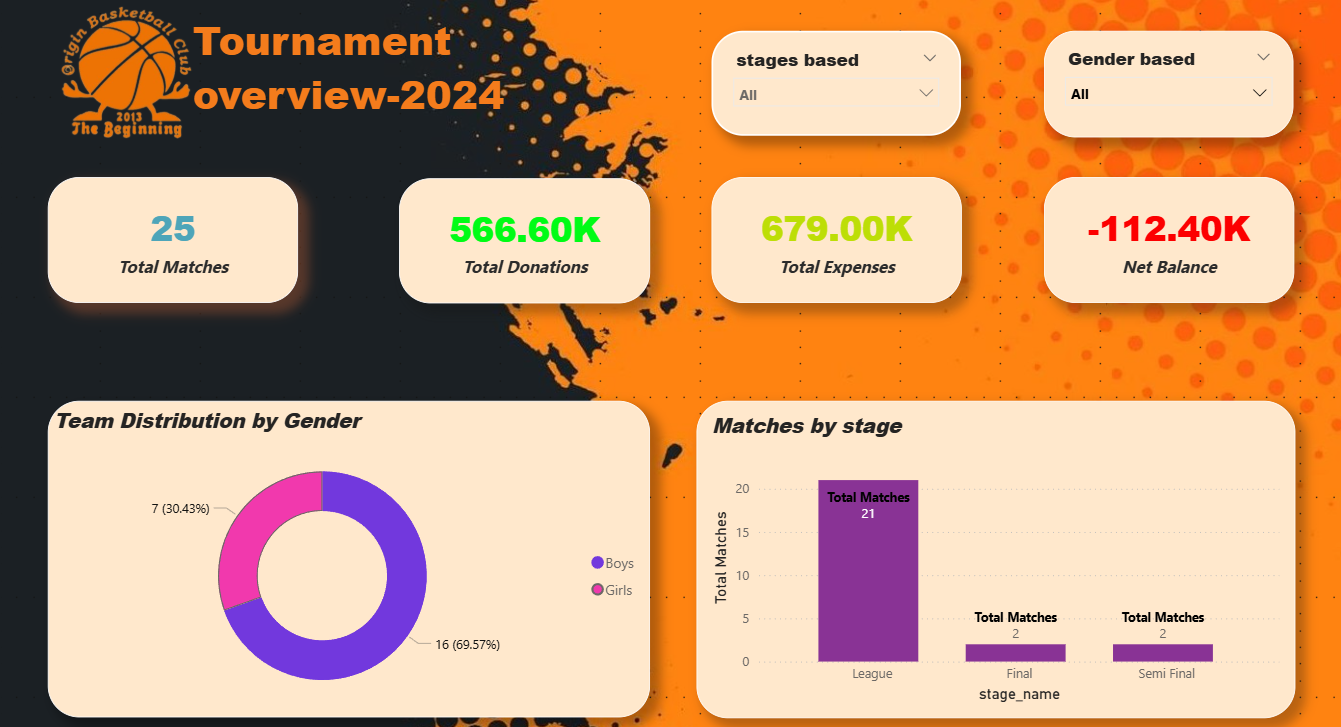

This screenshot's page, from the dashboard's own definition file:
{"tool":"powerbi","page":{"name":"Tournament overview","canvas":[1280,720],"ordinal":0},"visuals":[{"type":"slicer","fields":{"Values":["origin_basketball_db gender_categories.gender_name"]},"box":[995.7,31.9,237.7,101.4],"z":0},{"type":"donutChart","title":"Team Distribution by Gender","fields":{"Category":["origin_basketball_db gender_categories.gender_name"],"Y":["CountNonNull(origin_basketball_db teams.team_name)"]},"box":[46.4,384.1,573.9,301.4],"z":1000},{"type":"slicer","fields":{"Values":["origin_basketball_db match_stages.stage_name"]},"box":[678.2,32,237.5,99.7],"z":2000},{"type":"clusteredColumnChart","title":"Matches by stage ","fields":{"Category":["origin_basketball_db match_stages.stage_name"],"Y":["_Measures.Total Matches"]},"box":[664,384,570,302],"z":3000},{"type":"card","fields":{"Values":["_Measures.Total Matches"]},"box":[47,172,238,120],"z":4000},{"type":"card","fields":{"Values":["_Measures.Total Donations"]},"box":[381.2,172.5,239.1,118.8],"z":5000},{"type":"card","fields":{"Values":["_Measures.Net Balance"]},"box":[995,172,238,120],"z":6000},{"type":"card","fields":{"Values":["_Measures.Total Expenses"]},"box":[679,172,238,120],"z":7000},{"type":"image","box":[0,0,237.5,150.2],"z":8000},{"type":"textbox","box":[180,10,317.1,150],"z":9000}]}

Visuals, with their boxes on the page's 1280x720 design canvas (x1, y1, x2, y2). These are canvas units, not pixel positions in the 1341x727 screenshot, which may show the page scaled, cropped or inside an application window:
slicer - origin_basketball_db gender_categories.gender_name: {"left": 996, "top": 32, "right": 1233, "bottom": 133}
"Team Distribution by Gender" donutChart: {"left": 46, "top": 384, "right": 620, "bottom": 686}
slicer - origin_basketball_db match_stages.stage_name: {"left": 678, "top": 32, "right": 916, "bottom": 132}
"Matches by stage " clusteredColumnChart: {"left": 664, "top": 384, "right": 1234, "bottom": 686}
card - _Measures.Total Matches: {"left": 47, "top": 172, "right": 285, "bottom": 292}
card - _Measures.Total Donations: {"left": 381, "top": 172, "right": 620, "bottom": 291}
card - _Measures.Net Balance: {"left": 995, "top": 172, "right": 1233, "bottom": 292}
card - _Measures.Total Expenses: {"left": 679, "top": 172, "right": 917, "bottom": 292}
image: {"left": 0, "top": 0, "right": 238, "bottom": 150}
textbox: {"left": 180, "top": 10, "right": 497, "bottom": 160}
